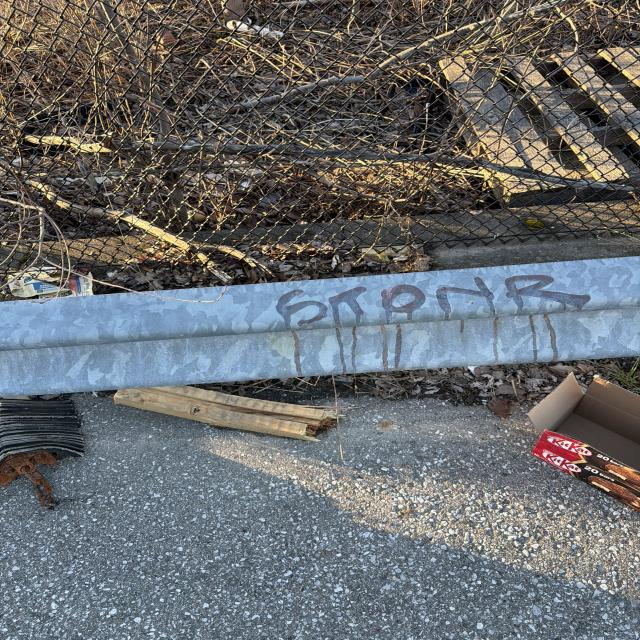Guard rail: (9, 264, 625, 386)
